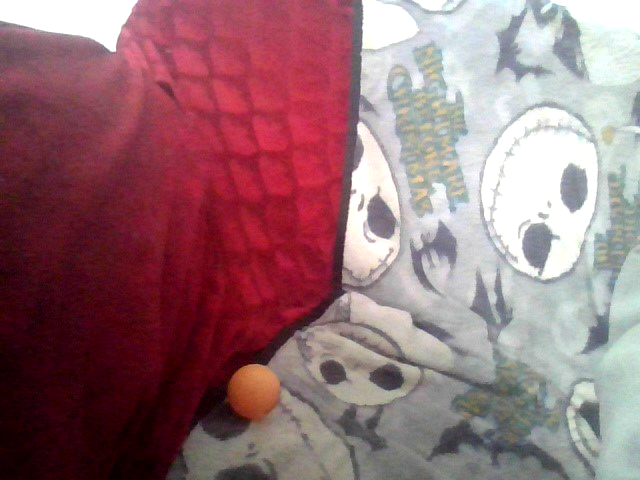ball: (226, 364, 281, 418)
